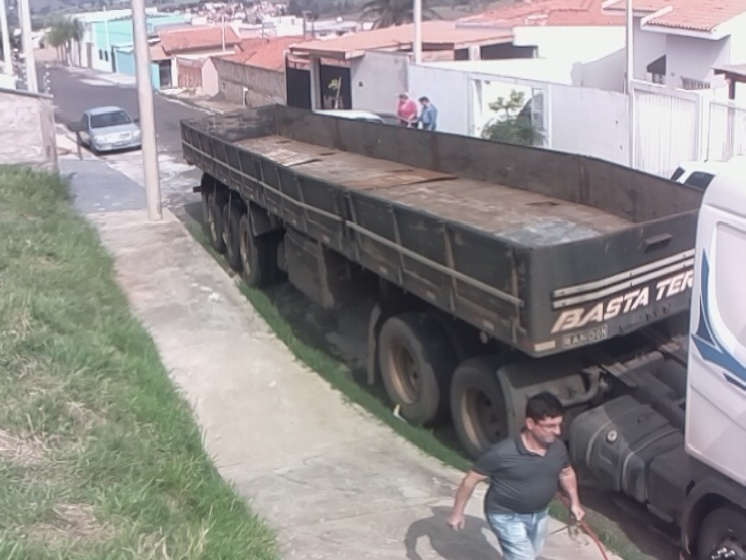person: (444, 393, 593, 560), (394, 91, 419, 130), (421, 95, 440, 133)
